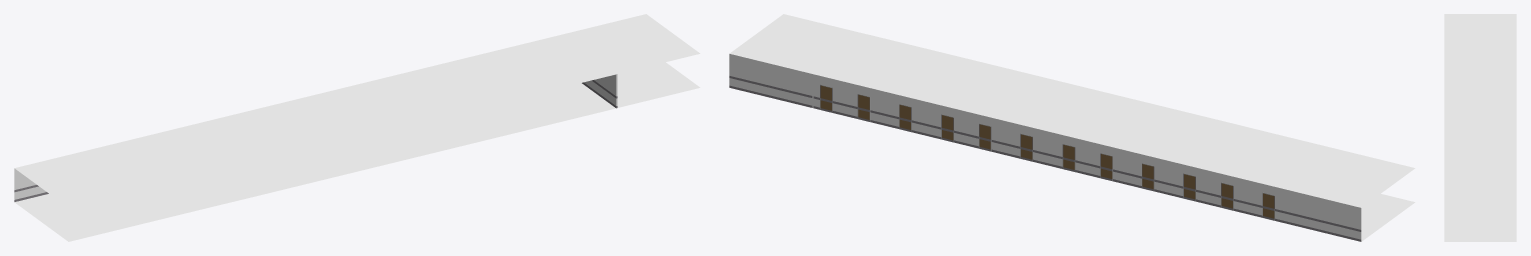
Rendered from clinicFinalModel.fbx.
3 views of the same model, side by side, from view 1: azimuth 30°, elevation 25°; view 2: azimuth 150°, elevation 25°; view 3: azimuth 270°, elevation 25° (orthographic). The views are drawn at different scales.
Parts seen in each view (by area): view 1: clinic.001; view 2: clinic.001; view 3: clinic.001.
Part boxes in pixels (bbox=[...]): clinic.001: bbox=[14, 14, 700, 241]; clinic.001: bbox=[729, 14, 1415, 241]; clinic.001: bbox=[1444, 14, 1516, 241].
Bounding box in the file's own units: 13452 × 693 × 2008.
